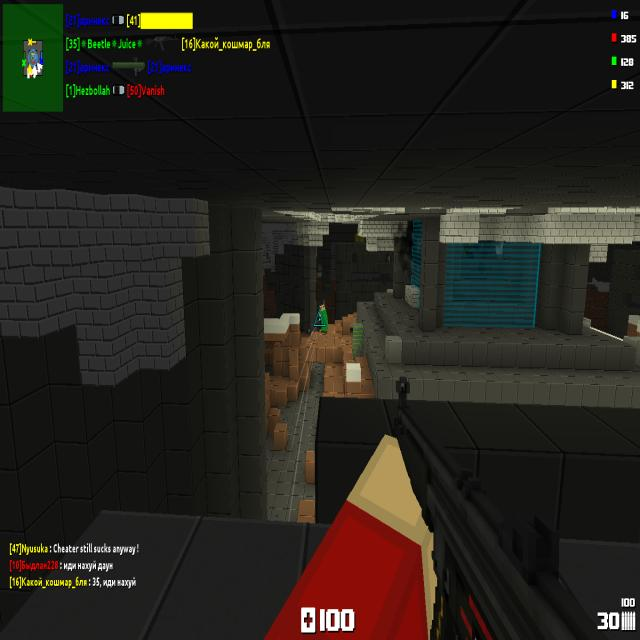enemy: (319, 304, 328, 334)
